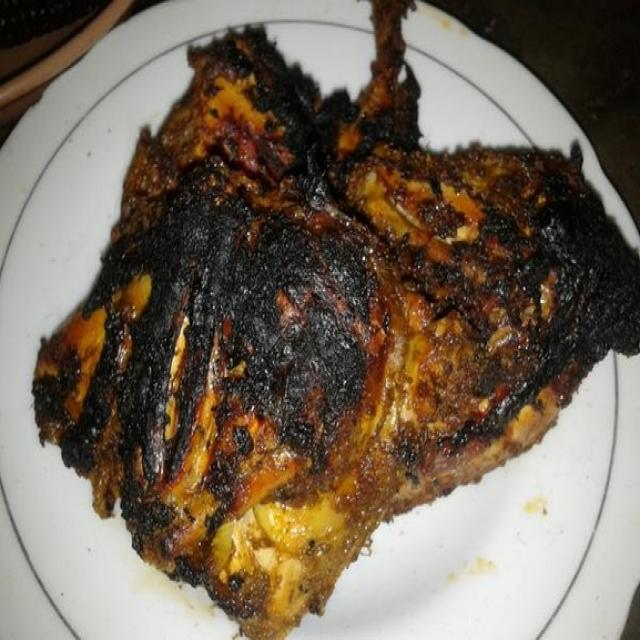鸡肉料理 含炸鸡: (31, 31, 603, 605)
